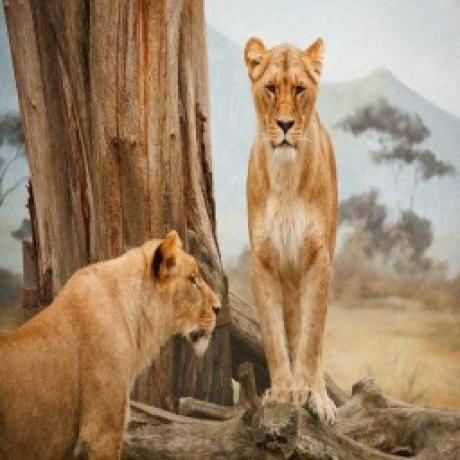Lion: (0, 226, 223, 460), (242, 37, 341, 427)
